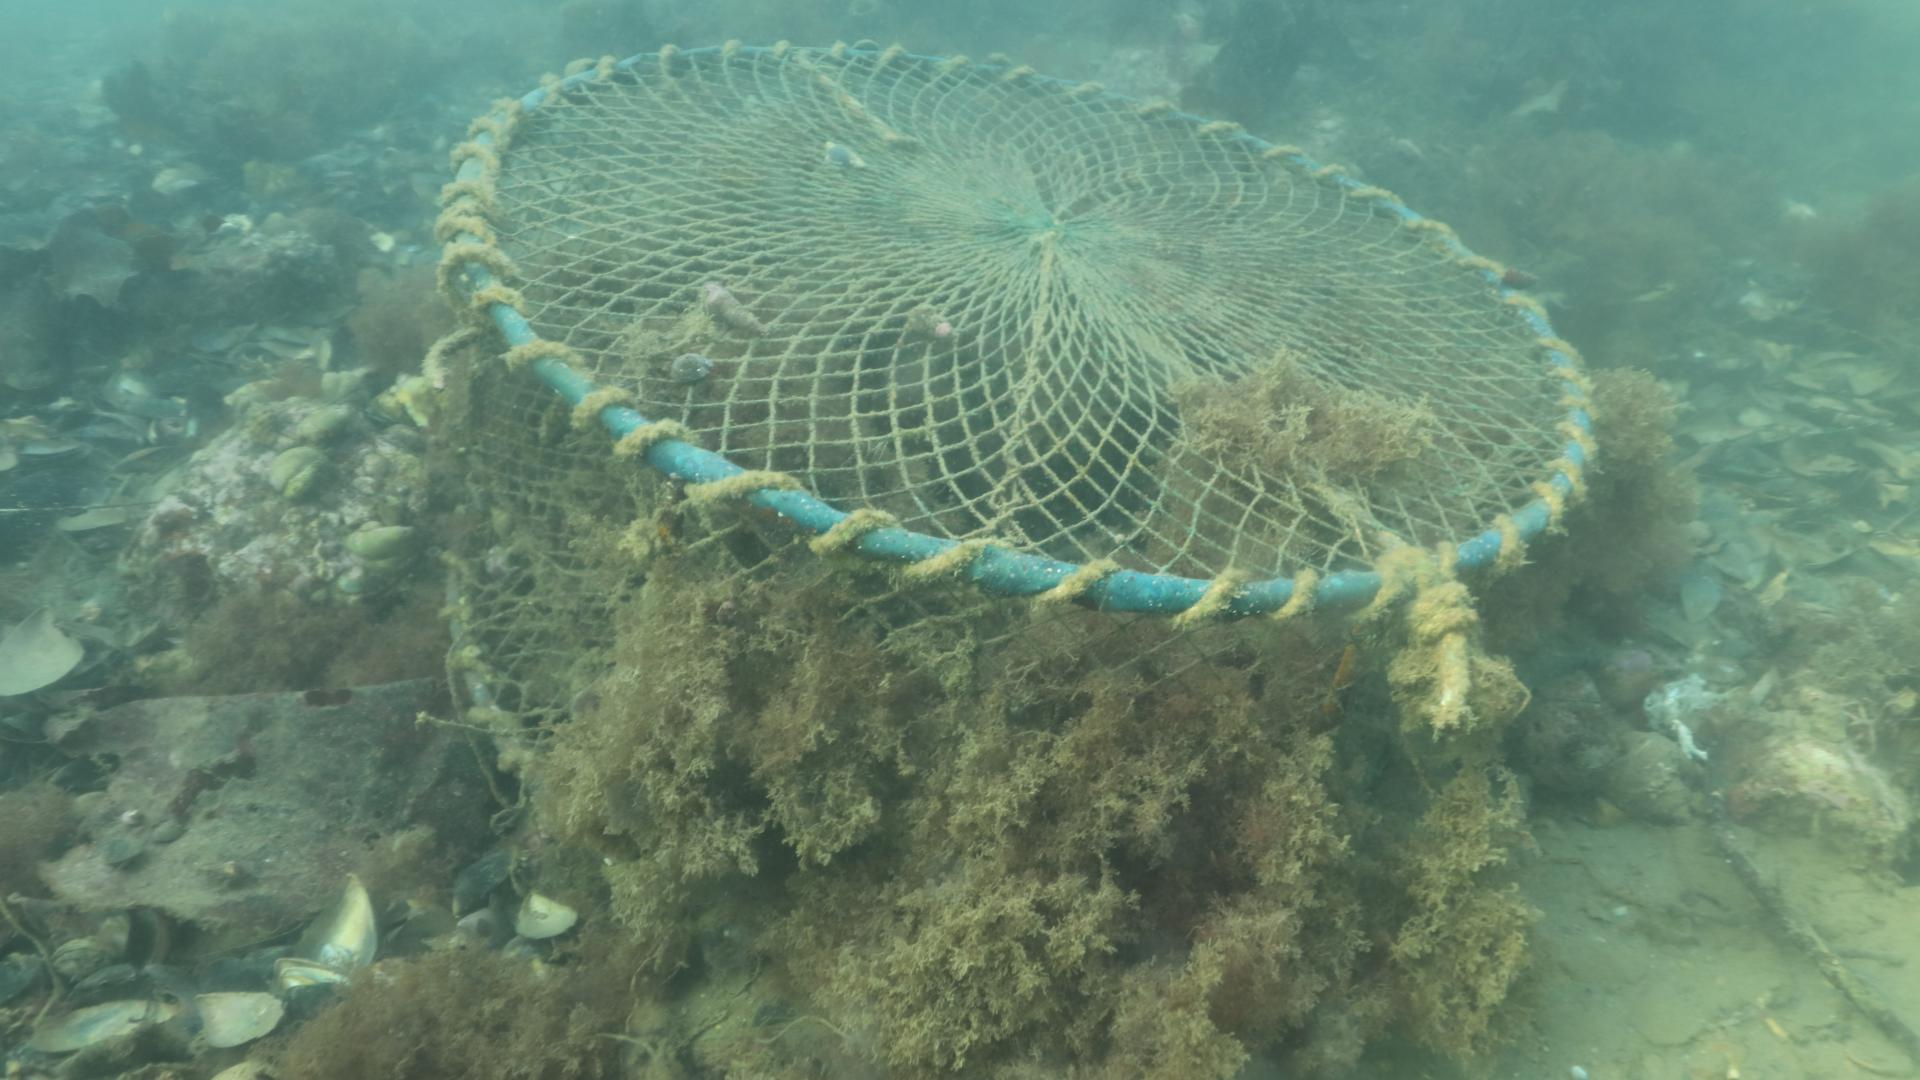circular fish trap: (434, 38, 1596, 819)
